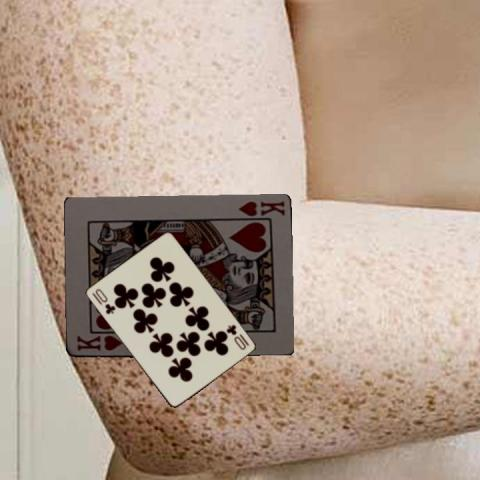10c: (88, 286, 116, 316), (223, 322, 250, 352)
Kh: (73, 332, 124, 353), (235, 198, 286, 218)
